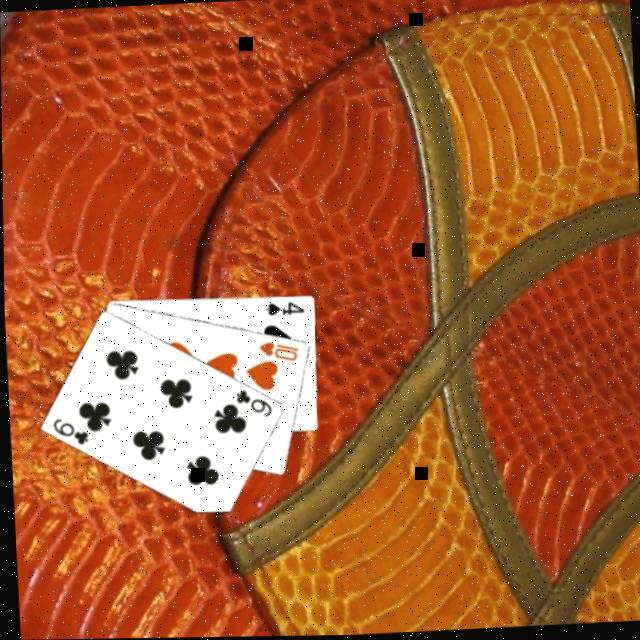10H: (256, 335, 302, 364)
4S: (263, 296, 308, 318)
6C: (233, 384, 275, 419), (50, 412, 91, 446)
